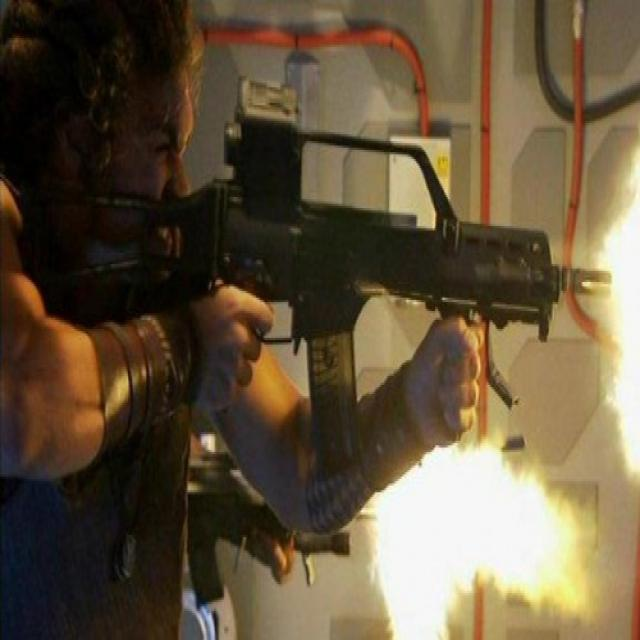rifle: (127, 99, 615, 470)
